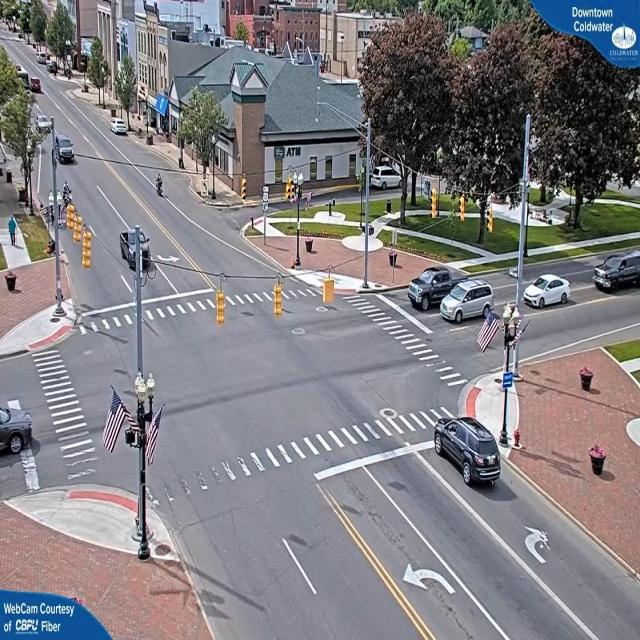car: (435, 419, 501, 487), (439, 278, 492, 325), (0, 399, 36, 458), (592, 251, 640, 294), (524, 272, 572, 309), (411, 269, 453, 311), (120, 228, 151, 270), (55, 134, 75, 162), (112, 120, 129, 136)
